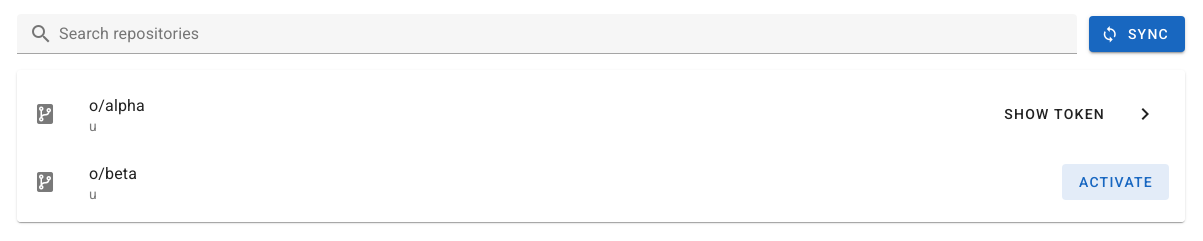
Test case: Dashboard › lists repos and filters by search
Replace the text in the field labelled "Search repositories" with "alpha": {"x": 129, "y": 34} [59,24,199,43]
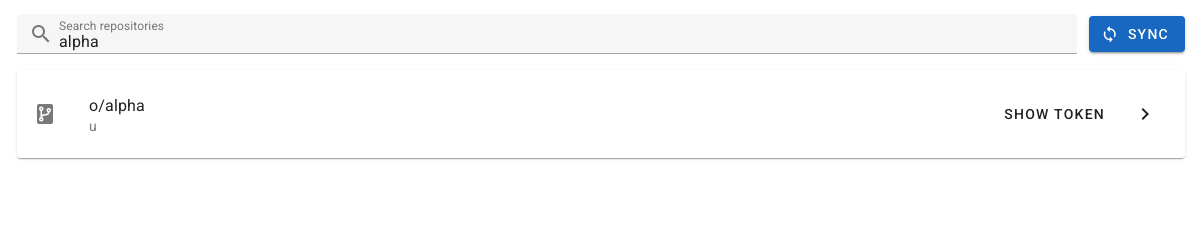
Expected: the text "o/alpha" is shown, [89,96,145,115]
Result: the text "o/beta" is gone
